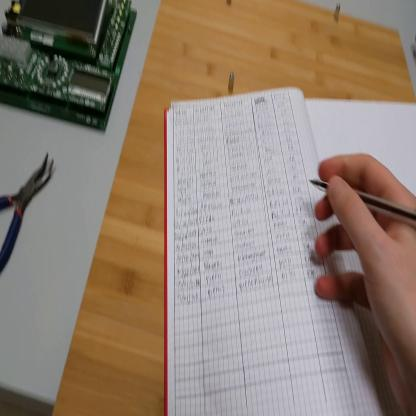hand: (312, 152, 416, 387)
low voltage board: (2, 2, 140, 133)
pliers: (1, 154, 55, 276)
register: (164, 94, 416, 416)
working area: (55, 3, 416, 415)
